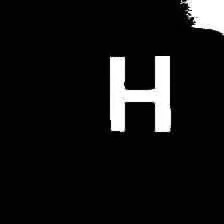LTR_H: (97, 48, 180, 136)
